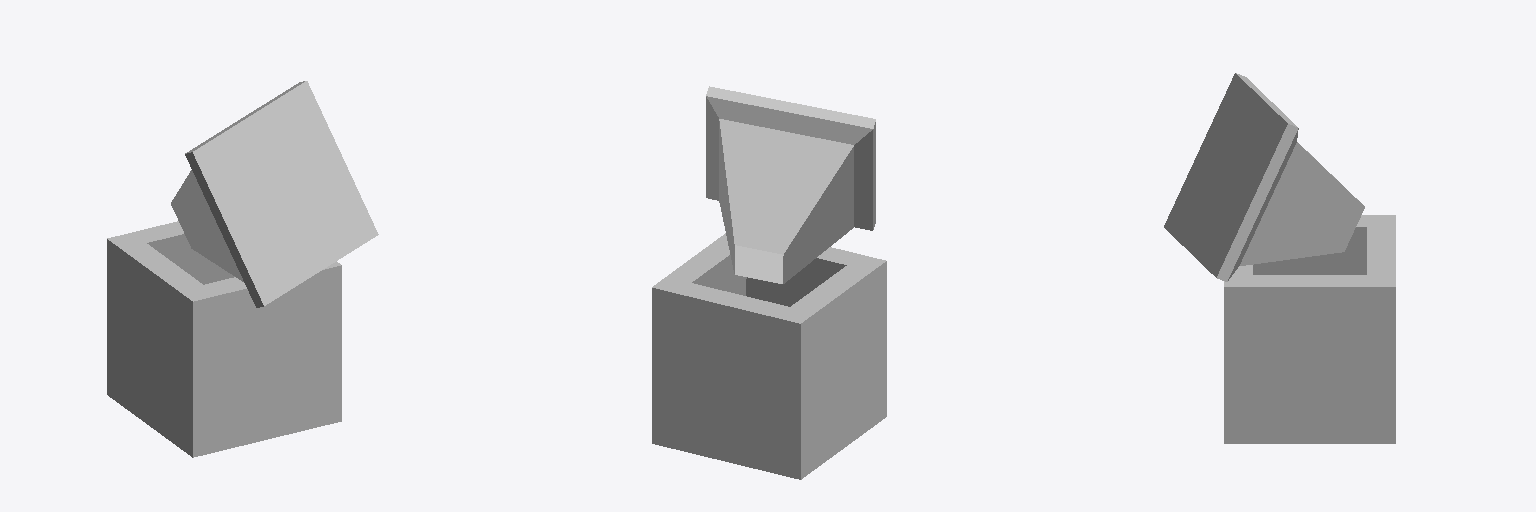
The model's file is AnimatedBox_000136.obj.
3 renders of one model, left to right at view 1: azimuth 30°, elevation 25°; view 2: azimuth 150°, elevation 25°; view 3: azimuth 270°, elevation 25°, orthographic.
Parts seen in each view (by area): view 1: Cube, Cube.001; view 2: Cube, Cube.001; view 3: Cube, Cube.001.
Boxes of the visible parts, x1=… form: Cube: x1=107, y1=221, x2=341, y2=457; Cube.001: x1=171, y1=81, x2=378, y2=307; Cube: x1=652, y1=233, x2=886, y2=479; Cube.001: x1=706, y1=86, x2=875, y2=283; Cube: x1=1224, y1=215, x2=1395, y2=443; Cube.001: x1=1164, y1=73, x2=1364, y2=281.
Size of the model in its own units: 2.44 by 4.08 by 2.7.